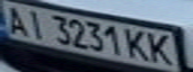1: (103, 24, 124, 56)
2: (66, 17, 87, 51)
3: (45, 12, 72, 46), (84, 20, 106, 53)
A: (0, 2, 33, 36)
I: (21, 7, 51, 39)
K: (145, 30, 178, 66), (121, 27, 151, 62)
